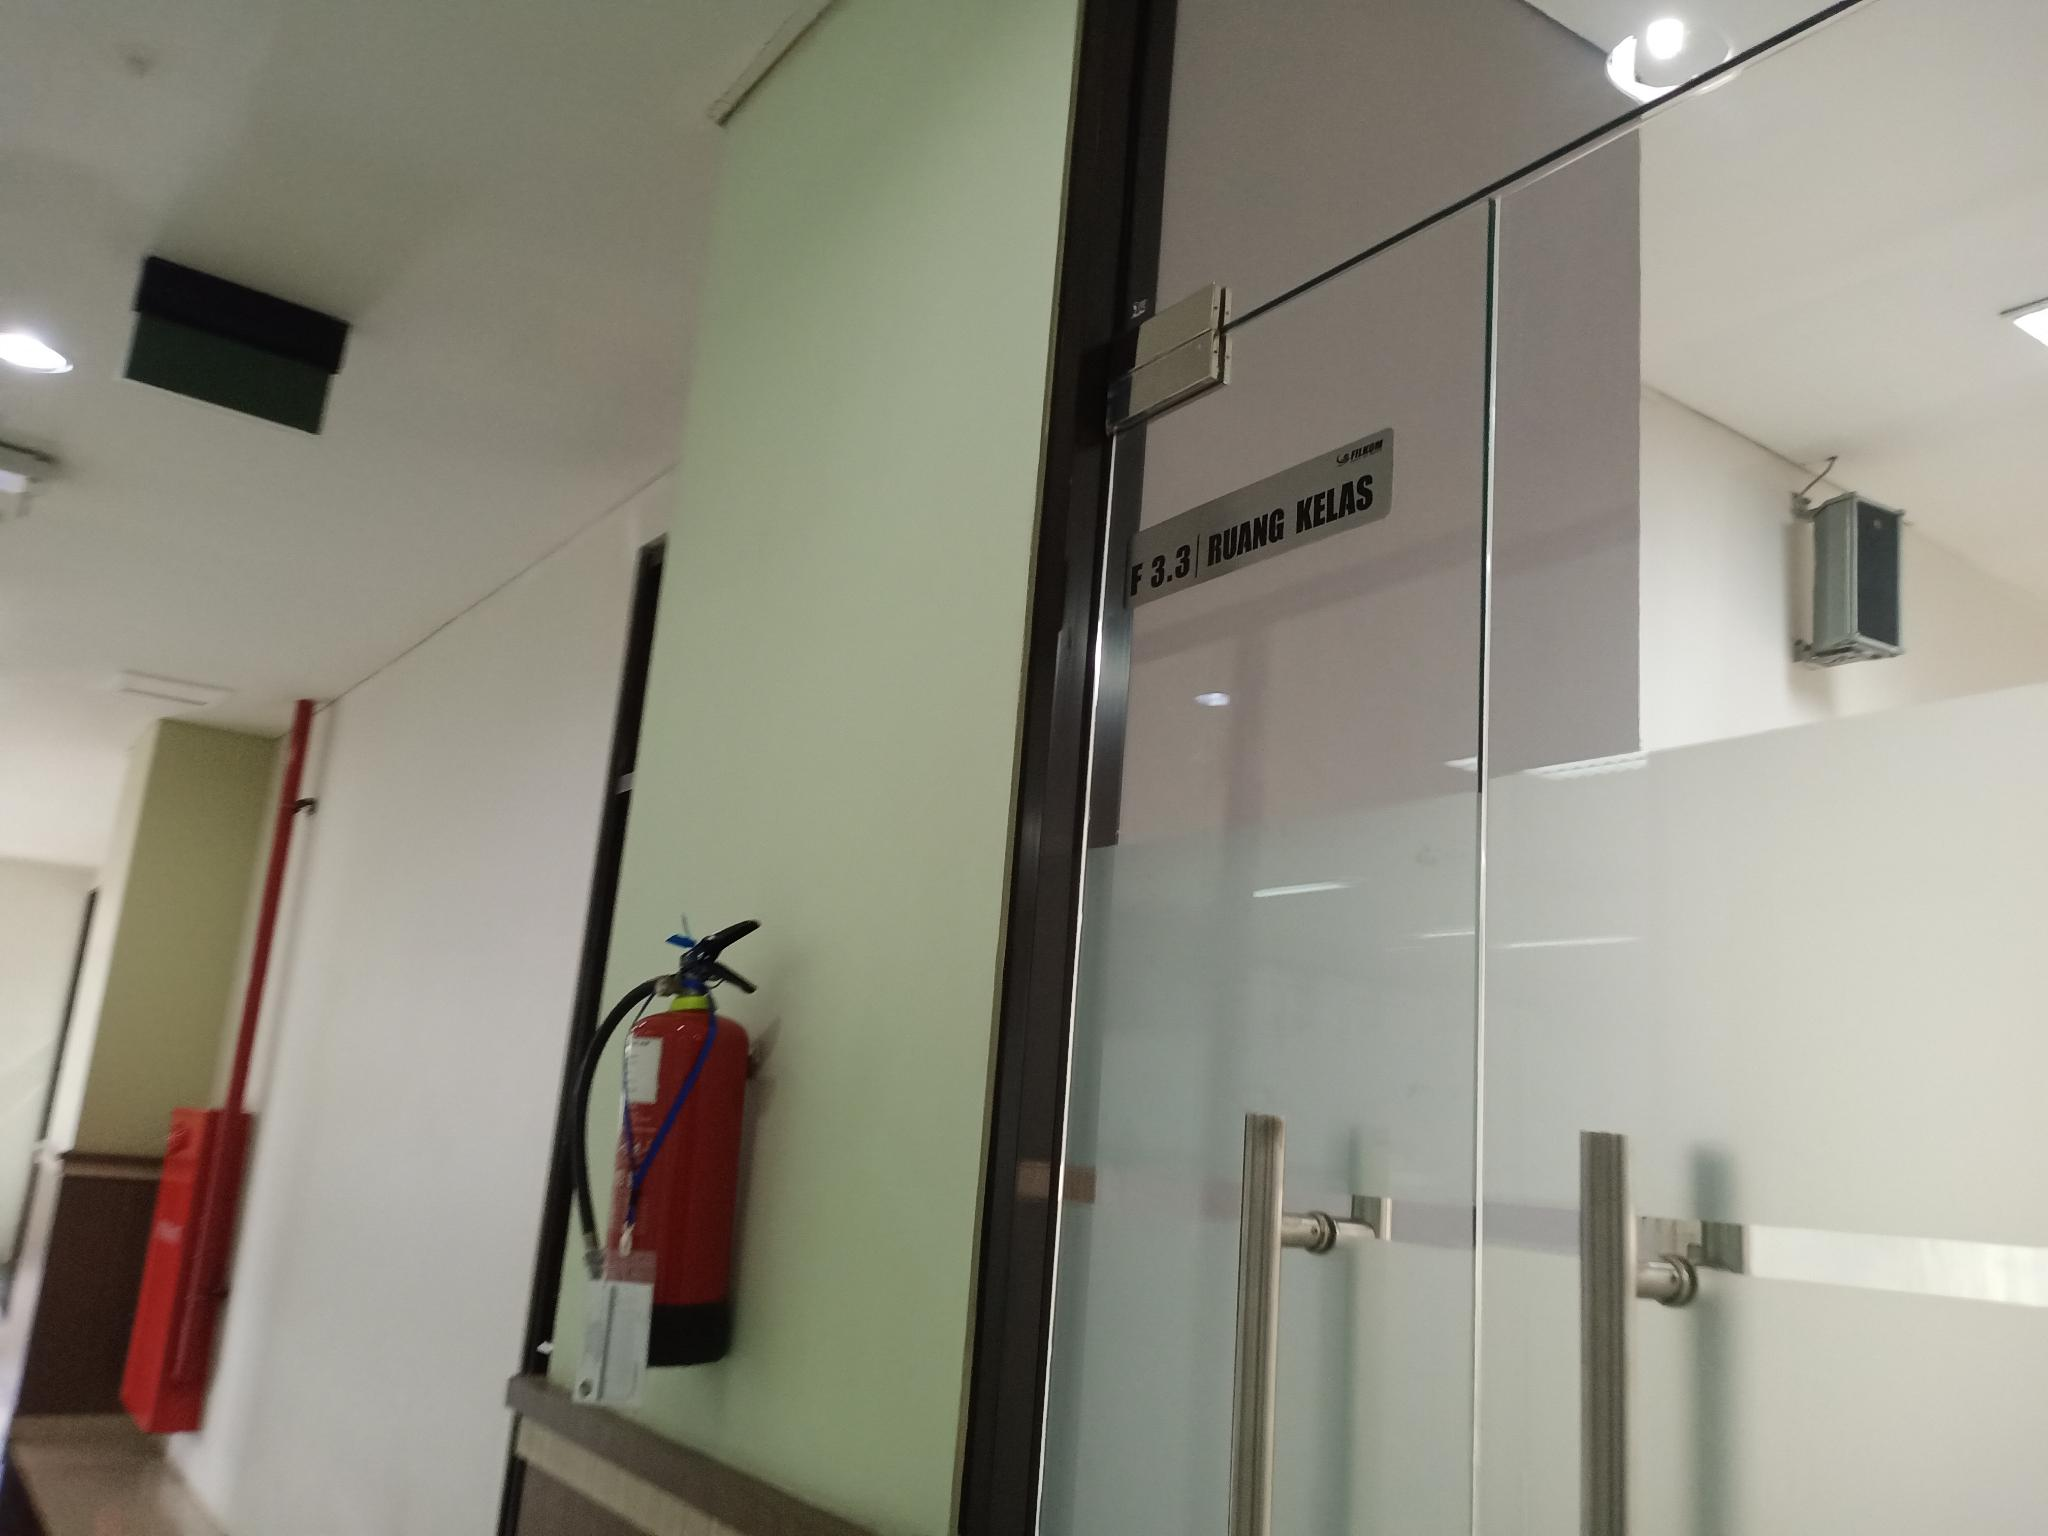plate: (1124, 424, 1393, 610)
